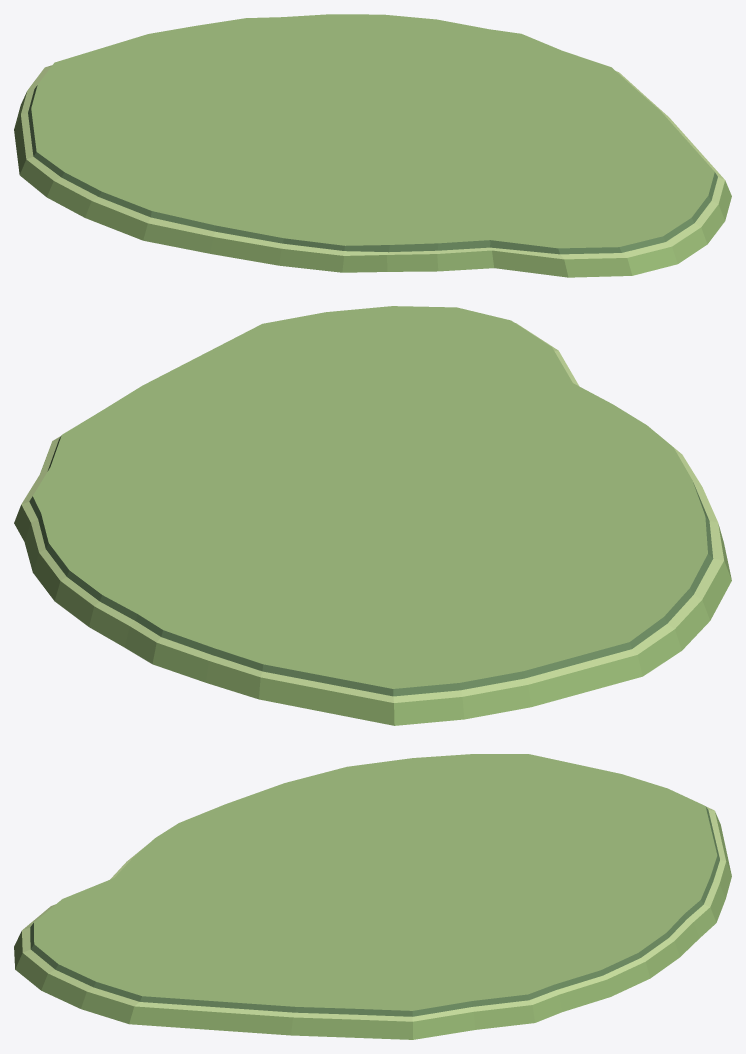
The model's file is groundPlatform4.fbx.
3 renders of one model, top to bottom at view 1: azimuth 30°, elevation 25°; view 2: azimuth 150°, elevation 25°; view 3: azimuth 270°, elevation 25°, orthographic. The views are drawn at different scales.
Parts seen in each view (by area): view 1: Cylinder.001; view 2: Cylinder.001; view 3: Cylinder.001.
Boxes of the visible parts, x1=… form: Cylinder.001: x1=14, y1=14, x2=731, y2=277; Cylinder.001: x1=14, y1=306, x2=731, y2=725; Cylinder.001: x1=14, y1=754, x2=731, y2=1039.
Bounding box in the file's own units: 929 × 38.53 × 1040.
